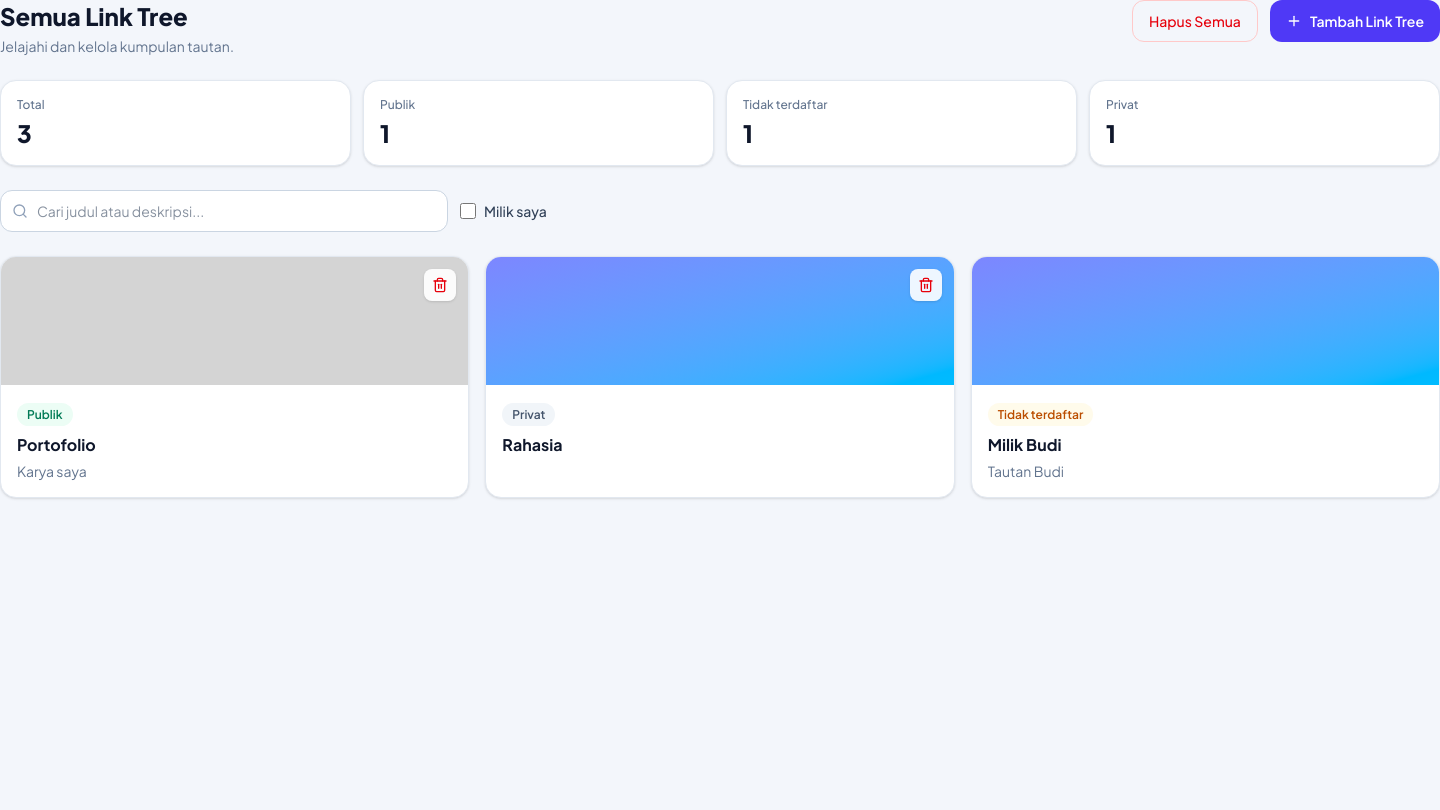
Test: HomePage › tambah: mengisi form -> link tree dibuat dan modal tertutup
The image size is (1440, 810).
Expected: the heading "Portofolio" is shown, [17,434,96,455]
Click the button "Tambah Link Tree" at point(1355, 21), box [1270,0,1439,42]
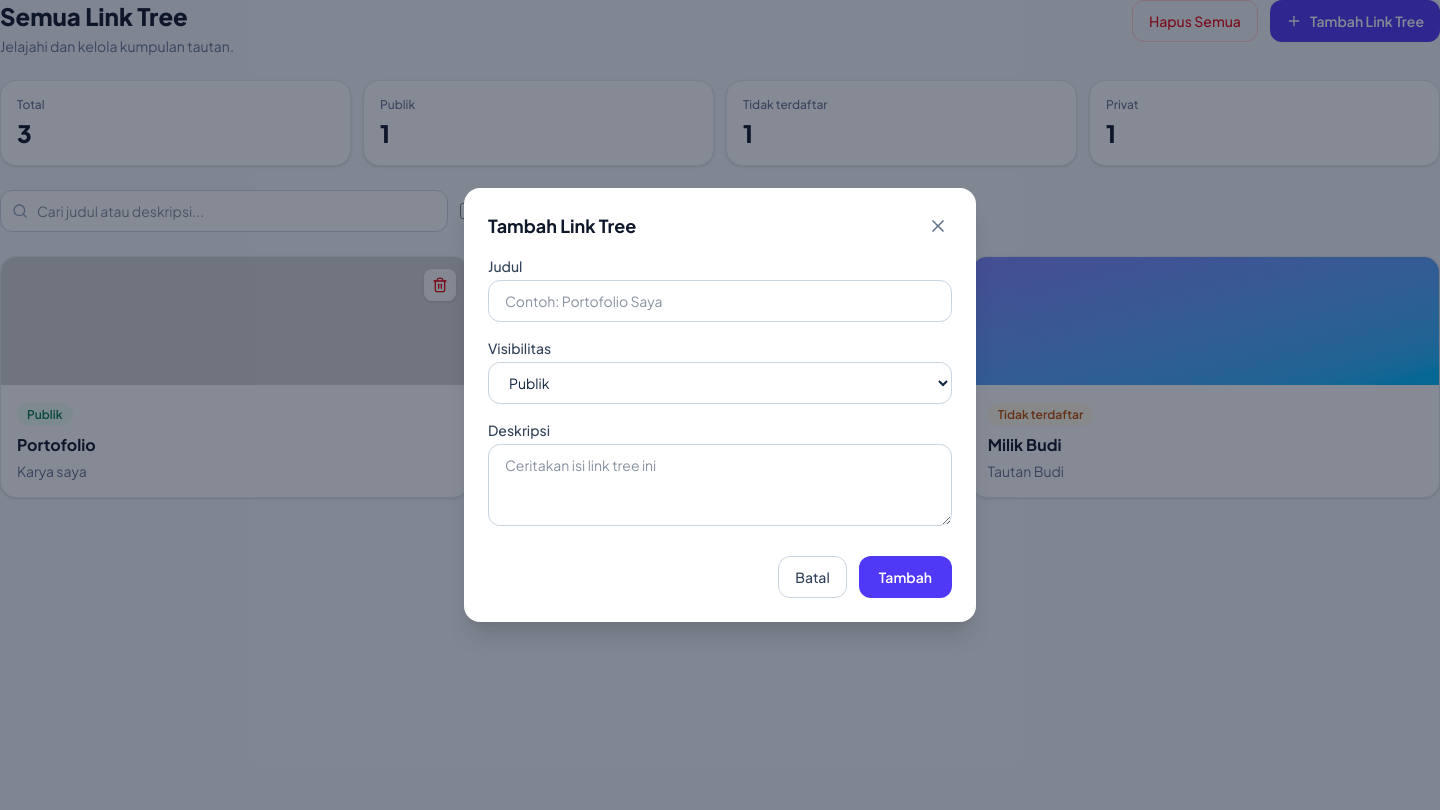
Expected: the dialog "Tambah Link Tree" is shown, [464,188,976,622]
Type "Baru" into the field labelled "Judul" at point(720, 301), box [488,280,952,322]
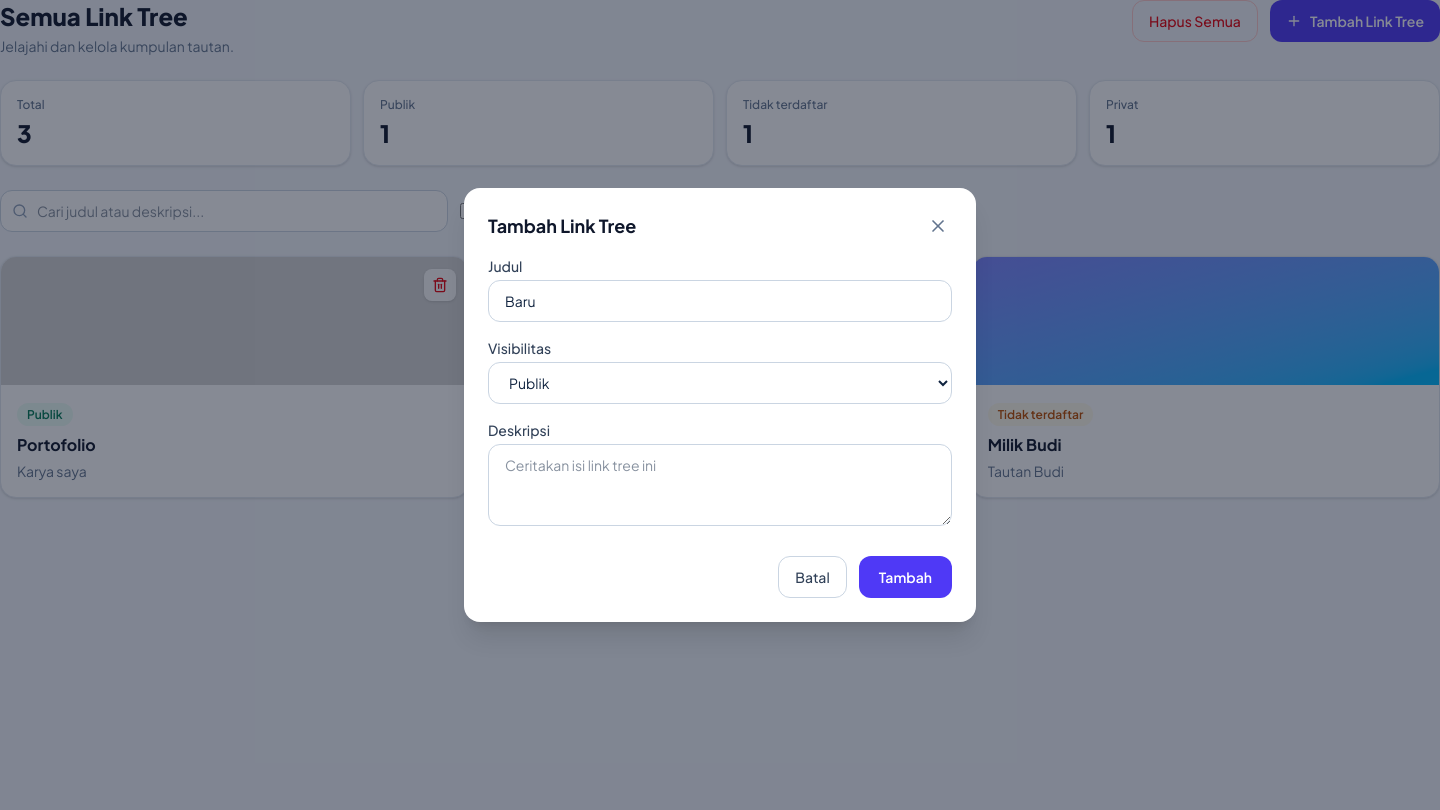
Click the button "Tambah" at point(905, 577), box [859,556,952,598]
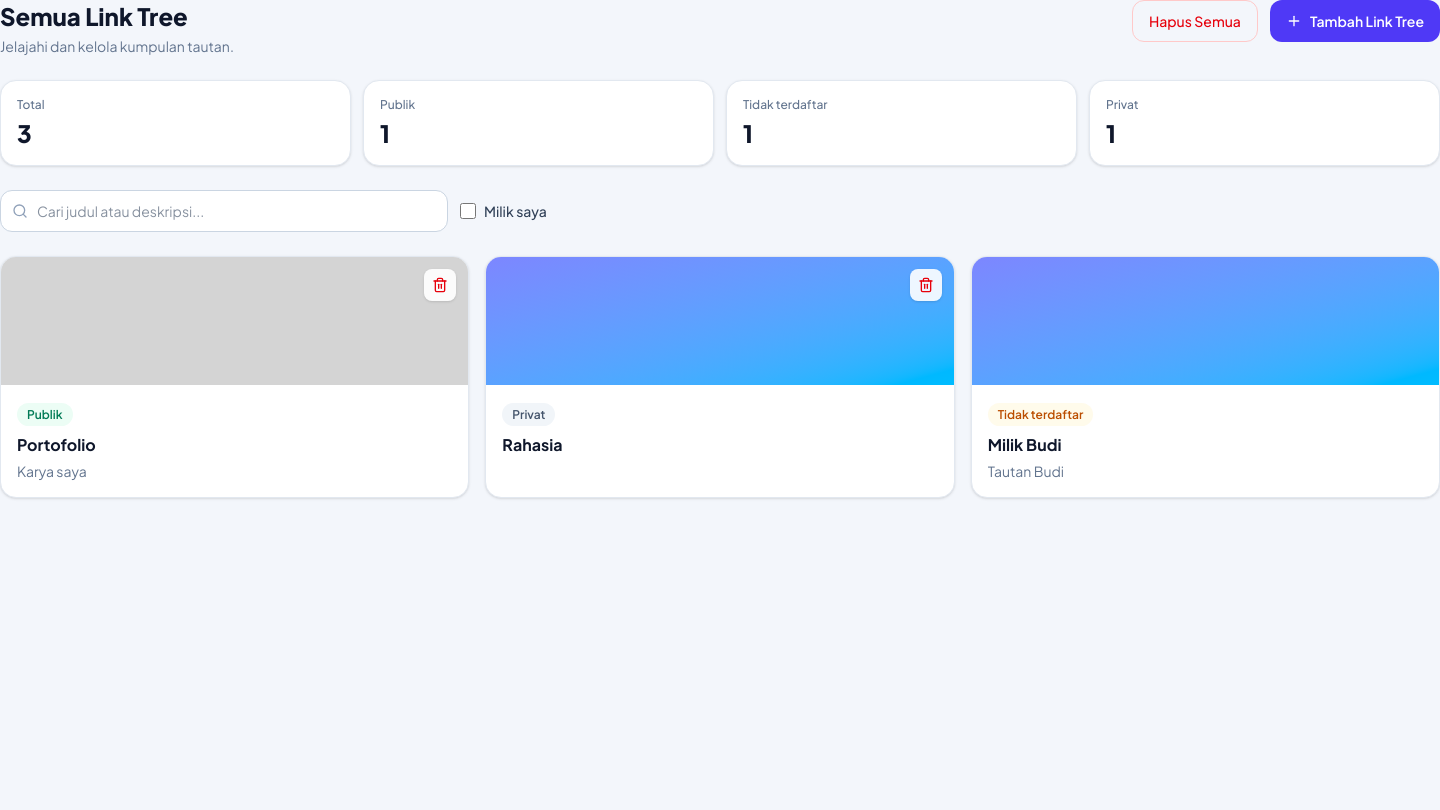
Expected: the dialog is gone
